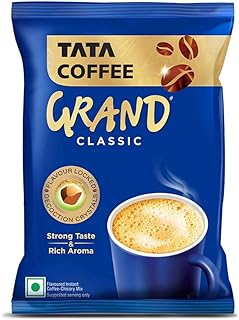Coffee: (11, 3, 236, 315)
